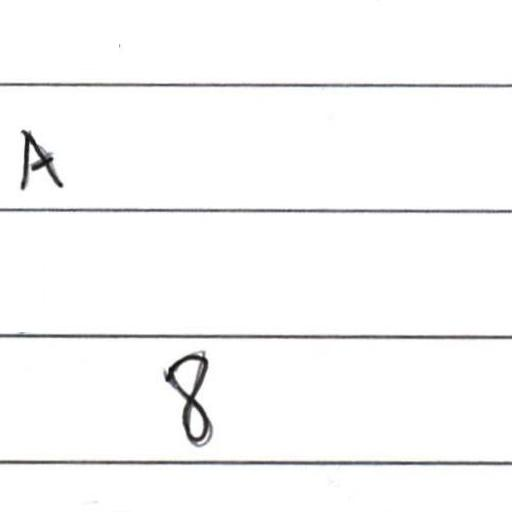ans: (154, 343, 216, 446), (17, 130, 64, 193)
